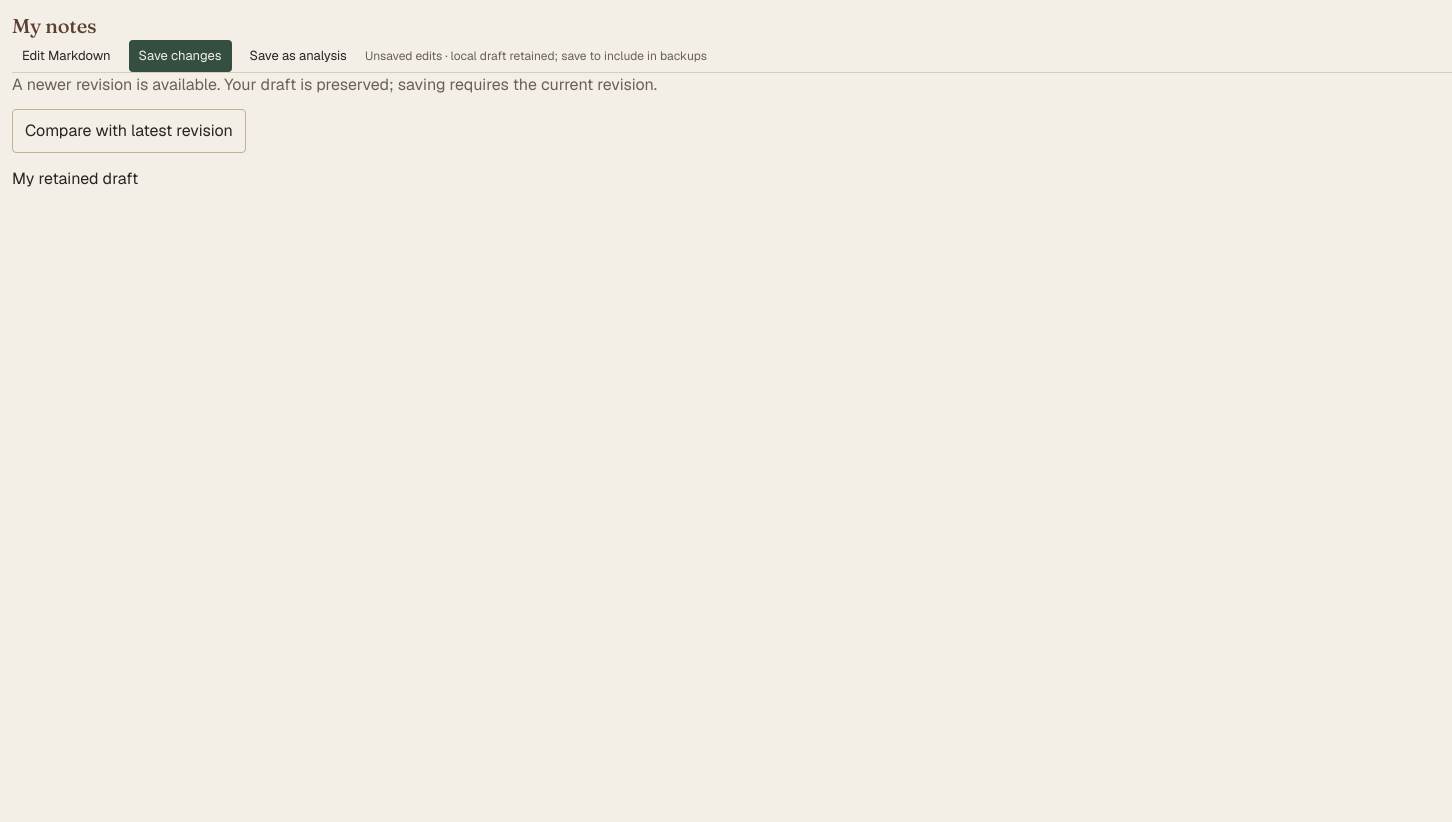
Test: requires review before rebasing a restored draft and keeps revision conflicts enforced
Expected: the text "Unsaved edits · local draft retained; save to include in backups" is shown, [365,47,707,65]
Click the button "Compare with latest revision" at (129, 131), box [12,109,246,153]
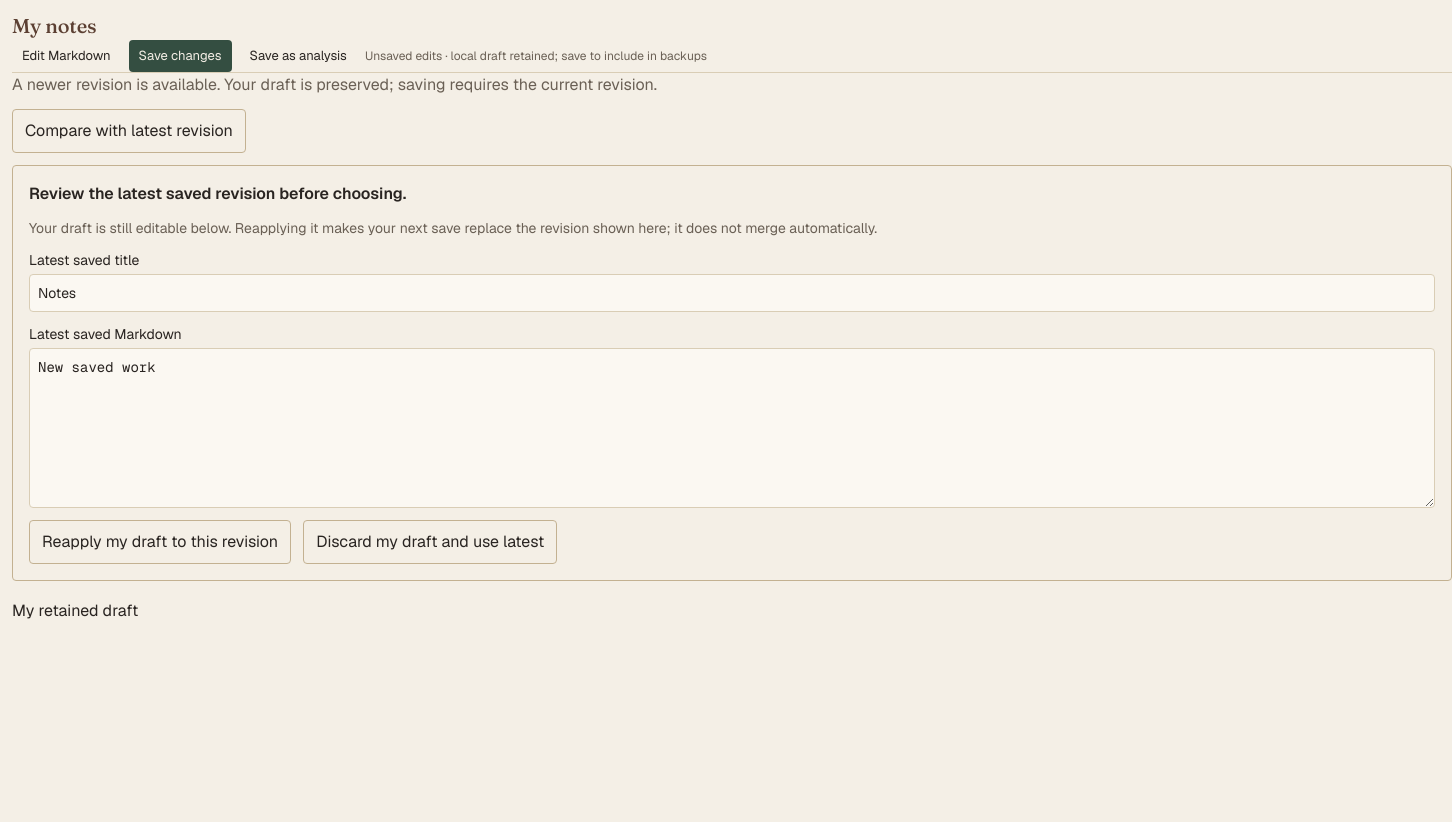
Now the text box labelled "Latest saved Markdown" holds "New saved work", box [29,348,1435,508]
Click the button "Reapply my draft to this revision" at (160, 542), box [29,520,291,564]
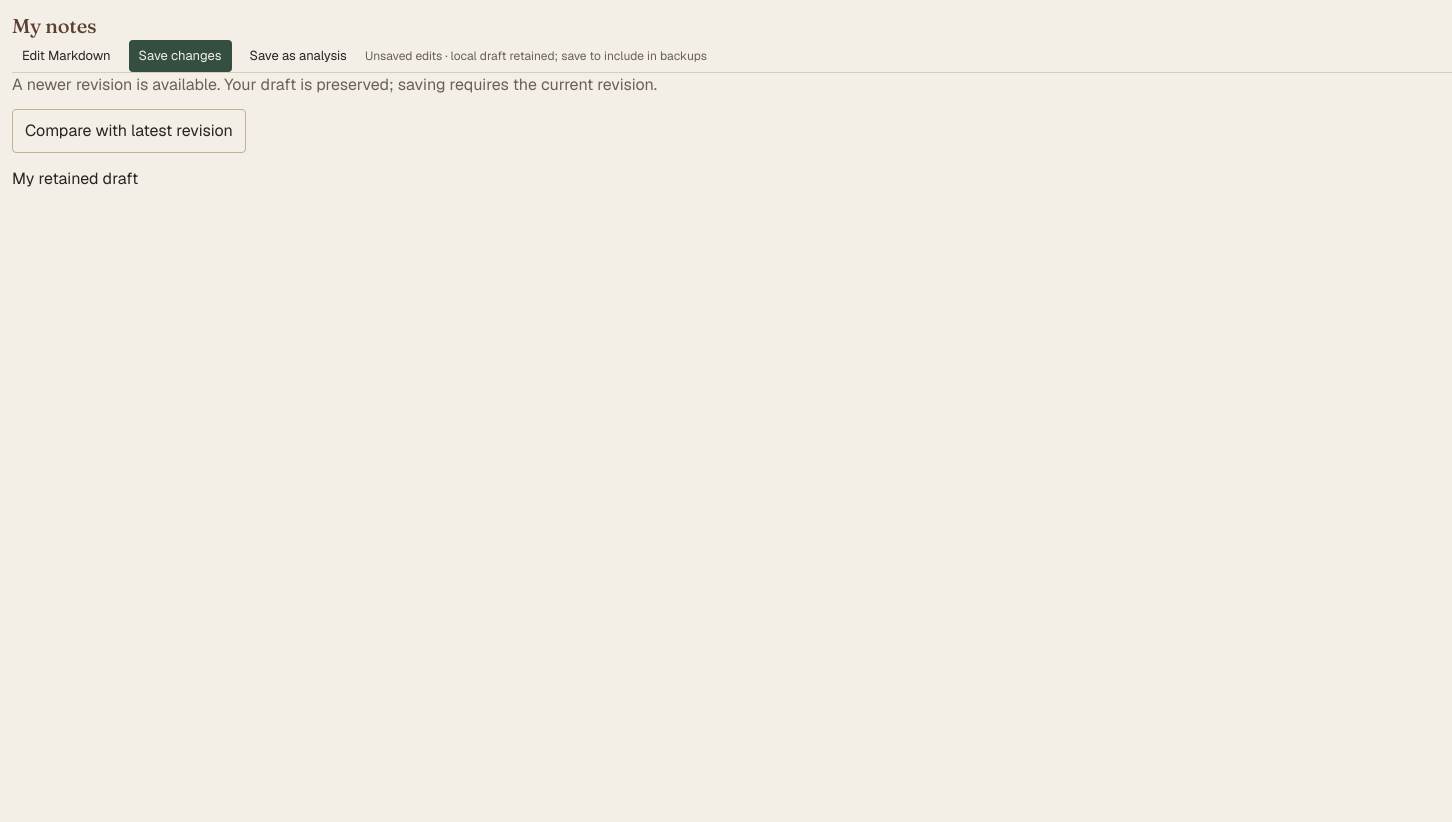
Click the button "Save changes" at (180, 56), box [129,40,232,72]
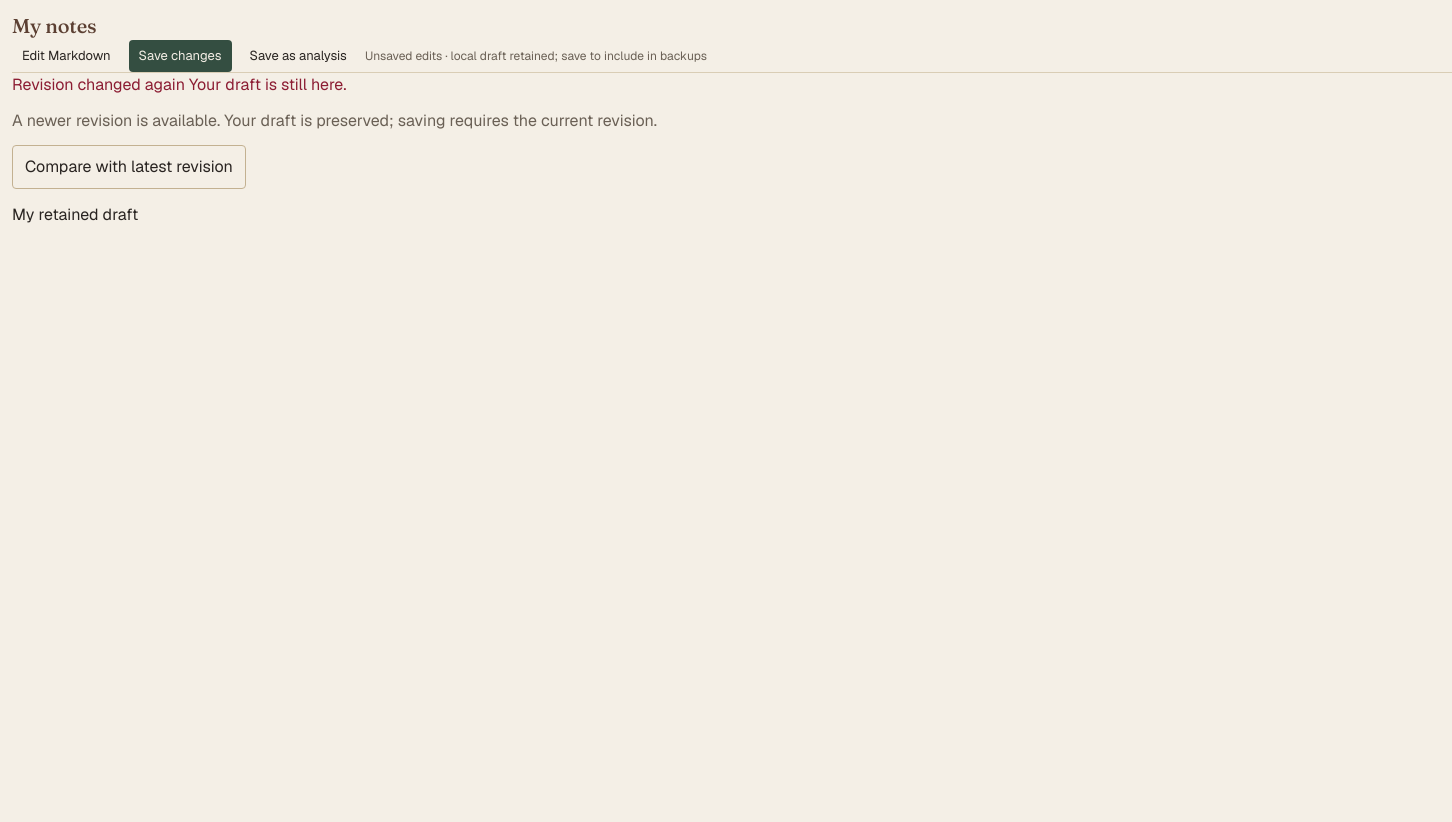
Now the message "Revision changed again Your draft is still here." is shown, box [12,74,346,95]
